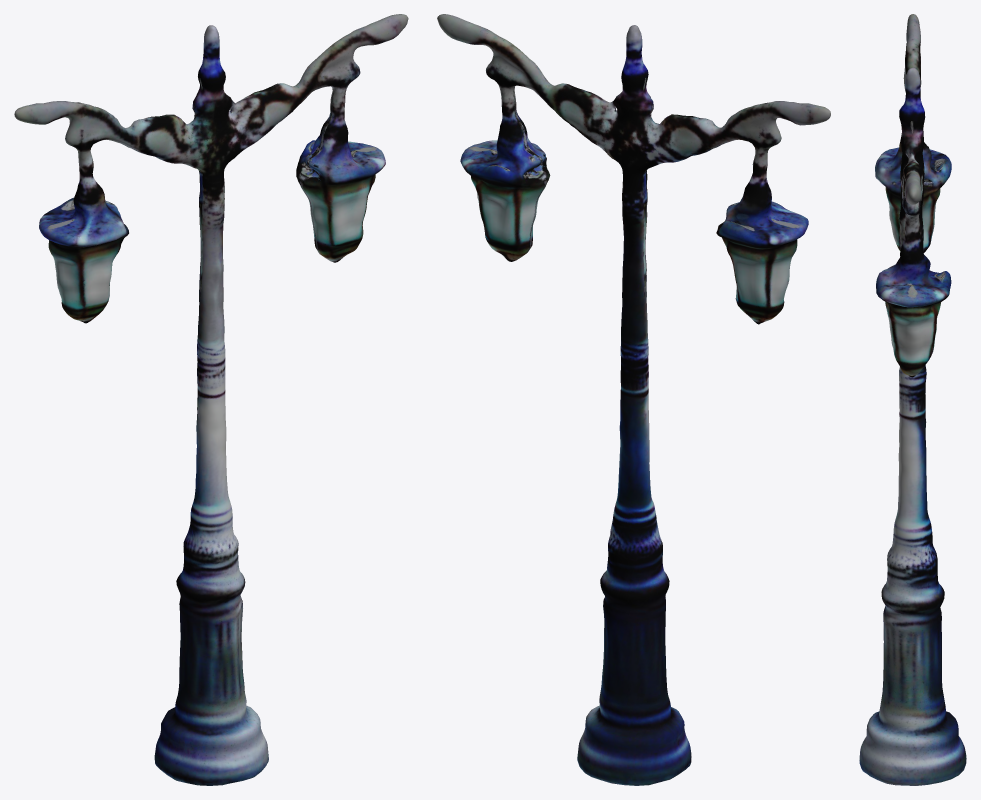
Rendered from 8d07256081d0_Streetlamps_in_Shan.obj.
The picture shows the model from 3 angles, left to right: view 1: azimuth 30°, elevation 25°; view 2: azimuth 150°, elevation 25°; view 3: azimuth 270°, elevation 25°; orthographic projection. The views are drawn at different scales.
Visible parts, largest first — view 1: mesh; view 2: mesh; view 3: mesh.
Part boxes in pixels (x1=…): mesh: x1=14, y1=14, x2=408, y2=785; mesh: x1=437, y1=14, x2=830, y2=785; mesh: x1=859, y1=14, x2=966, y2=785.
Bounding box in the file's own units: 0.5564 × 0.9978 × 0.1387.
1 material, 1 textured.
